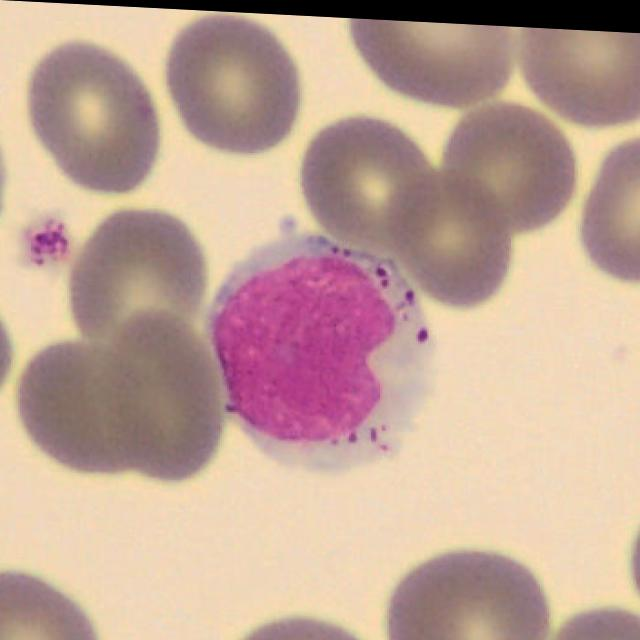Linfocito: (207, 230, 435, 468)
